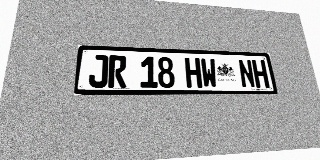1: (140, 56, 158, 88)
8: (157, 57, 175, 88)
H: (184, 58, 202, 88), (251, 60, 270, 88)
J: (88, 54, 108, 88)
N: (238, 59, 256, 88)
R: (108, 55, 127, 88)
W: (200, 58, 218, 88)
